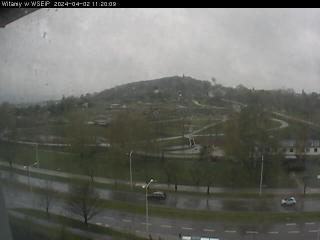car: (146, 190, 167, 203), (279, 196, 297, 207)
